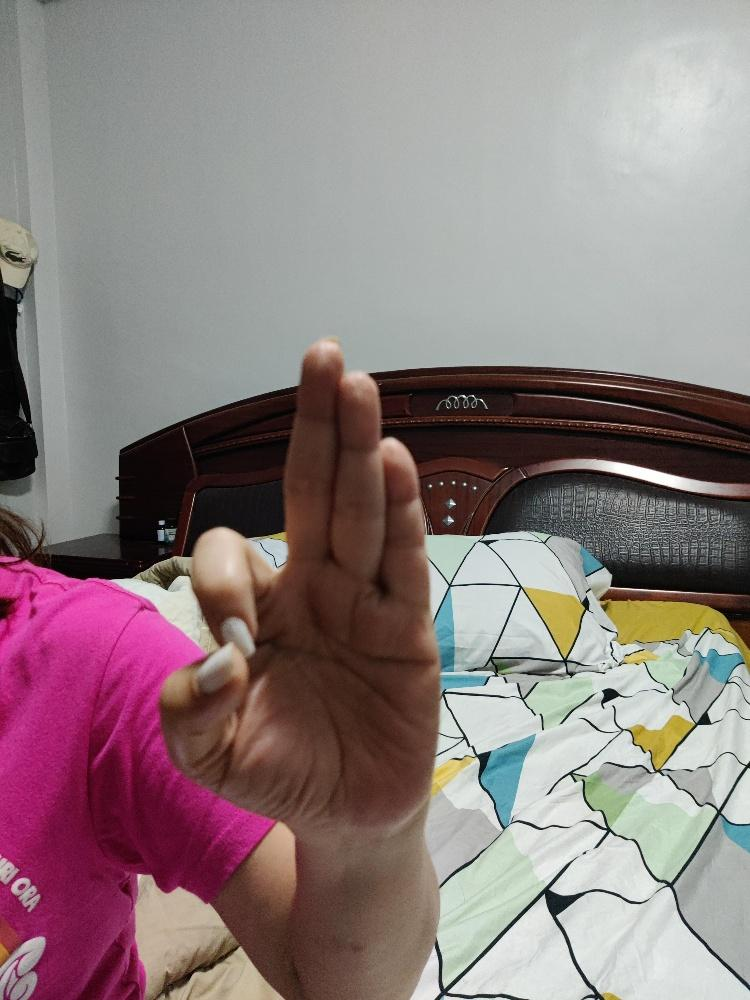f: (156, 336, 441, 835)
